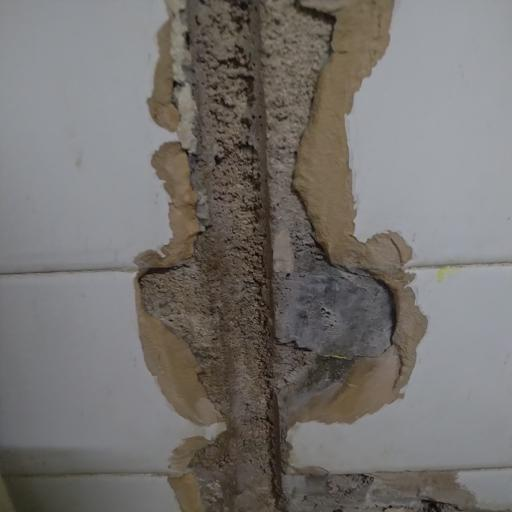spalling: (132, 0, 476, 512)
